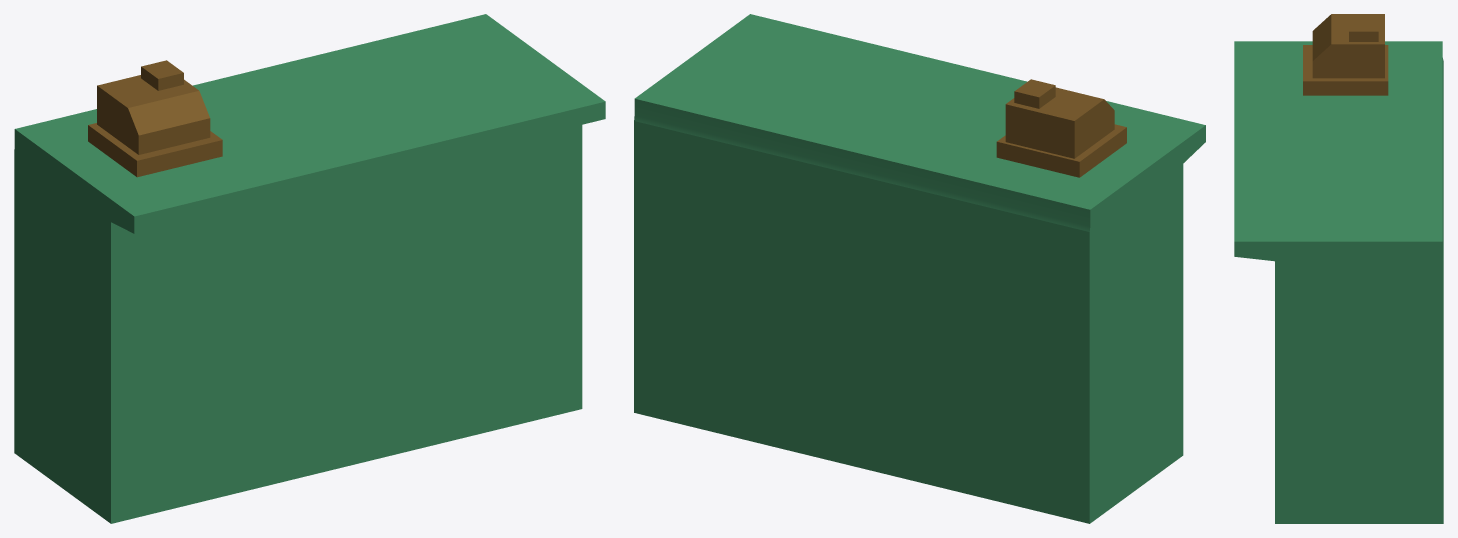
Rendered from till_counter.fbx.
3 views of the same model, side by side, from view 1: azimuth 30°, elevation 25°; view 2: azimuth 150°, elevation 25°; view 3: azimuth 270°, elevation 25° (orthographic). The views are drawn at different scales.
Parts seen in each view (by area): view 1: pCube1, pCube2; view 2: pCube1, pCube2; view 3: pCube1, pCube2.
Part boxes in pixels (x1,y1,x2,y2): pCube1: [14, 14, 605, 523]; pCube2: [88, 60, 222, 177]; pCube1: [634, 14, 1205, 523]; pCube2: [996, 79, 1126, 177]; pCube1: [1234, 41, 1443, 523]; pCube2: [1303, 14, 1388, 95].
Bounding box in the file's own units: 8.97 × 7.13 × 3.96.
